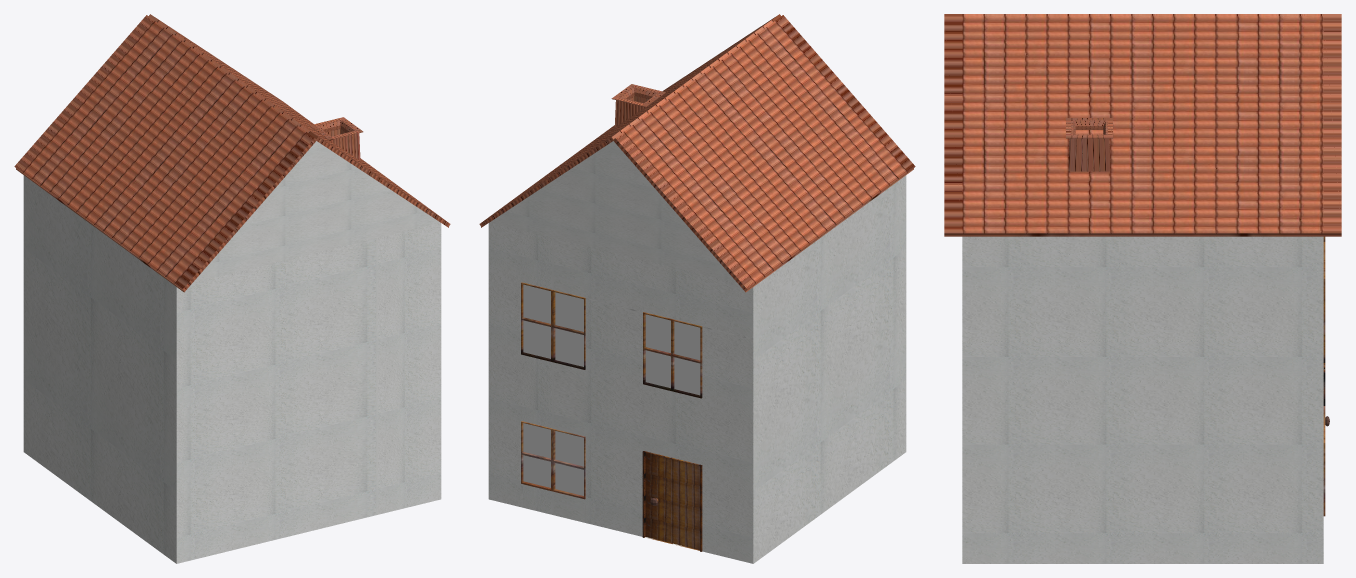
Rendered from Casa.fbx.
The picture shows the model from 3 angles, left to right: view 1: azimuth 30°, elevation 25°; view 2: azimuth 150°, elevation 25°; view 3: azimuth 270°, elevation 25°; orthographic projection. The views are drawn at different scales.
Visible parts, largest first — view 1: Cube, Cube.001, Cube.002; view 2: Cube, Cube.001, Cube.002; view 3: Cube, Cube.001, Cube.002.
Part boxes in pixels (box(x1,y1,x2,y2)): Cube: box(23, 175, 441, 563); Cube.001: box(14, 14, 450, 292); Cube.002: box(309, 117, 363, 160); Cube: box(488, 175, 906, 563); Cube.001: box(479, 14, 915, 292); Cube.002: box(611, 84, 665, 127); Cube: box(962, 236, 1325, 563); Cube.001: box(944, 14, 1341, 236); Cube.002: box(1066, 118, 1112, 171).
Bounding box in the file's own units: 203 × 289 × 220.
